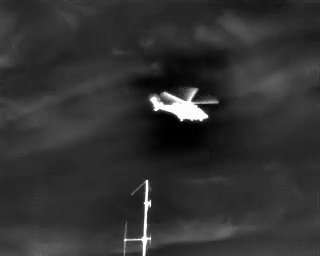HELICOPTER: (147, 81, 223, 130)
